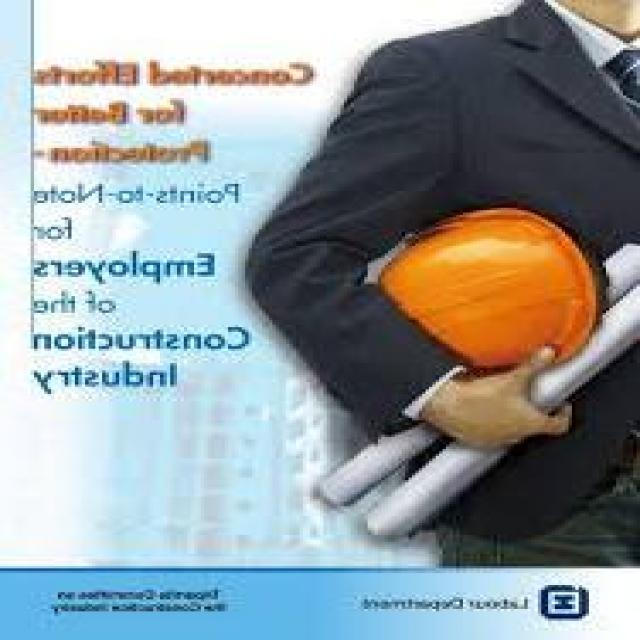Safety-Helmet: (354, 200, 620, 384)
